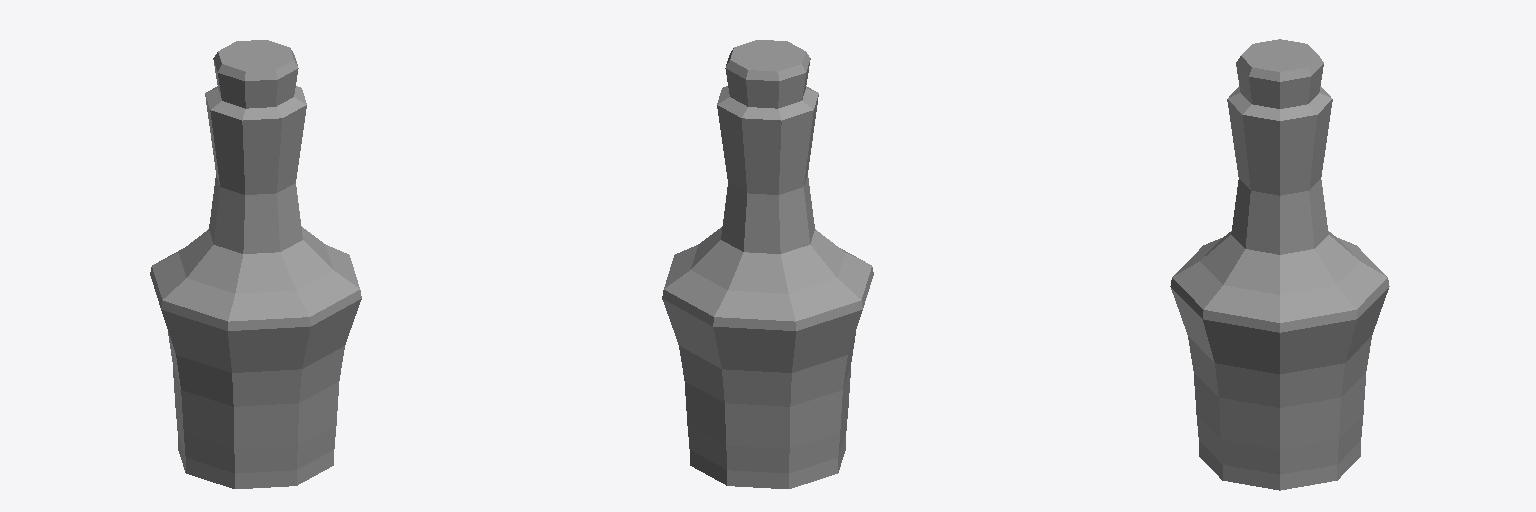
Rendered from purple_bottle.obj.
The picture shows the model from 3 angles: view 1: azimuth 30°, elevation 25°; view 2: azimuth 150°, elevation 25°; view 3: azimuth 270°, elevation 25°; orthographic projection.
Visible parts, largest first — view 1: small_health_poti.003_Cylinder.010; view 2: small_health_poti.003_Cylinder.010; view 3: small_health_poti.003_Cylinder.010.
Boxes of the visible parts, x1,y1,x2,y2 form: small_health_poti.003_Cylinder.010: [150, 40, 361, 488]; small_health_poti.003_Cylinder.010: [662, 40, 873, 488]; small_health_poti.003_Cylinder.010: [1170, 39, 1389, 490].
Size of the model in its own units: 0.231 by 0.4659 by 0.231.